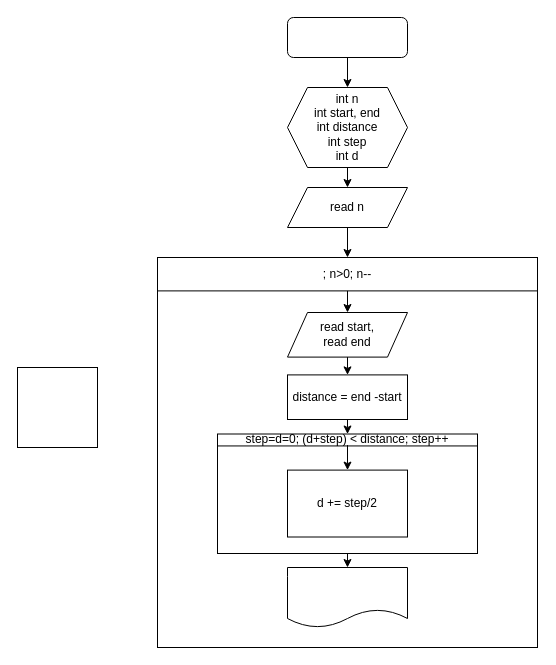
Image size: 556x665. Some labels were removed from this diagram. Here are the shapes that lost their labels. From the top down, the centre of each, then its label:
the point at 347,37: start
the point at 347,597: step
